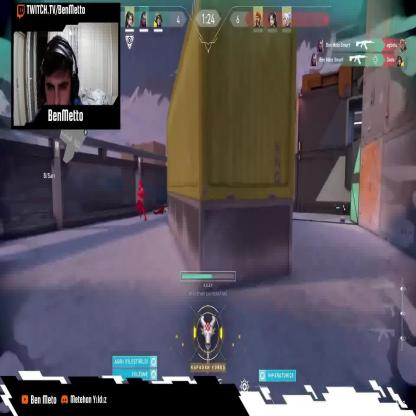enemy: (135, 179, 147, 222)
enemy_head: (139, 180, 142, 188)
